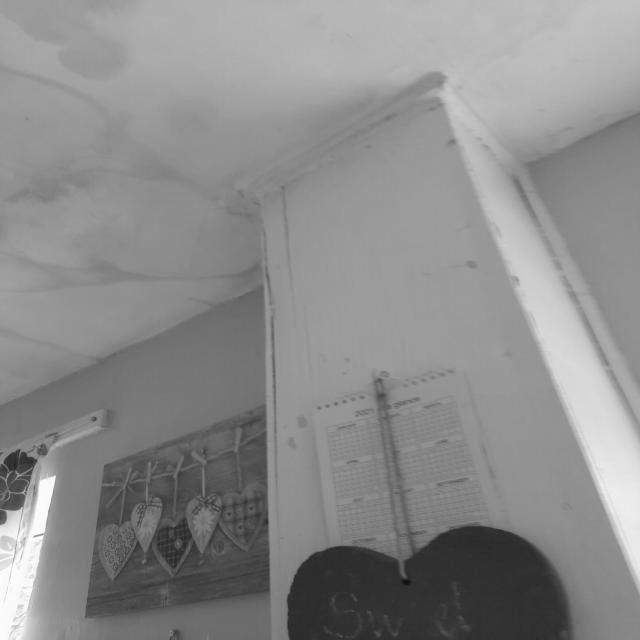stain marks: (0, 78, 173, 220), (0, 0, 161, 85), (0, 248, 274, 296), (509, 92, 640, 170), (169, 150, 260, 244), (0, 313, 116, 371), (173, 78, 233, 160)
